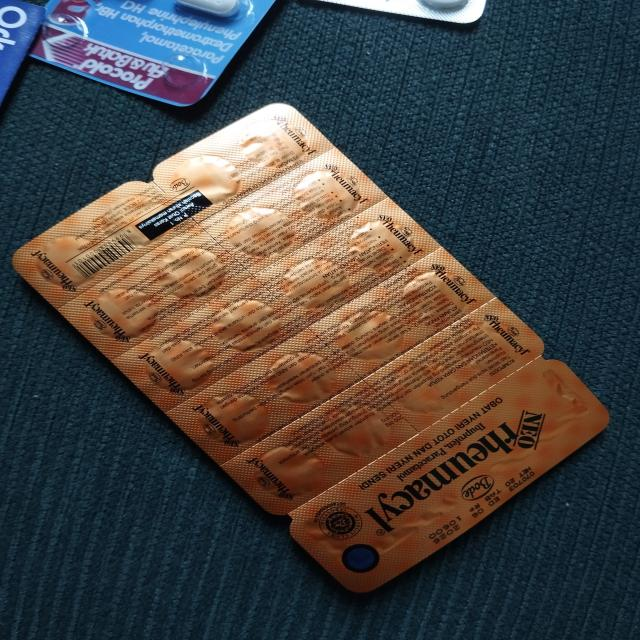B3: (13, 102, 611, 591)
